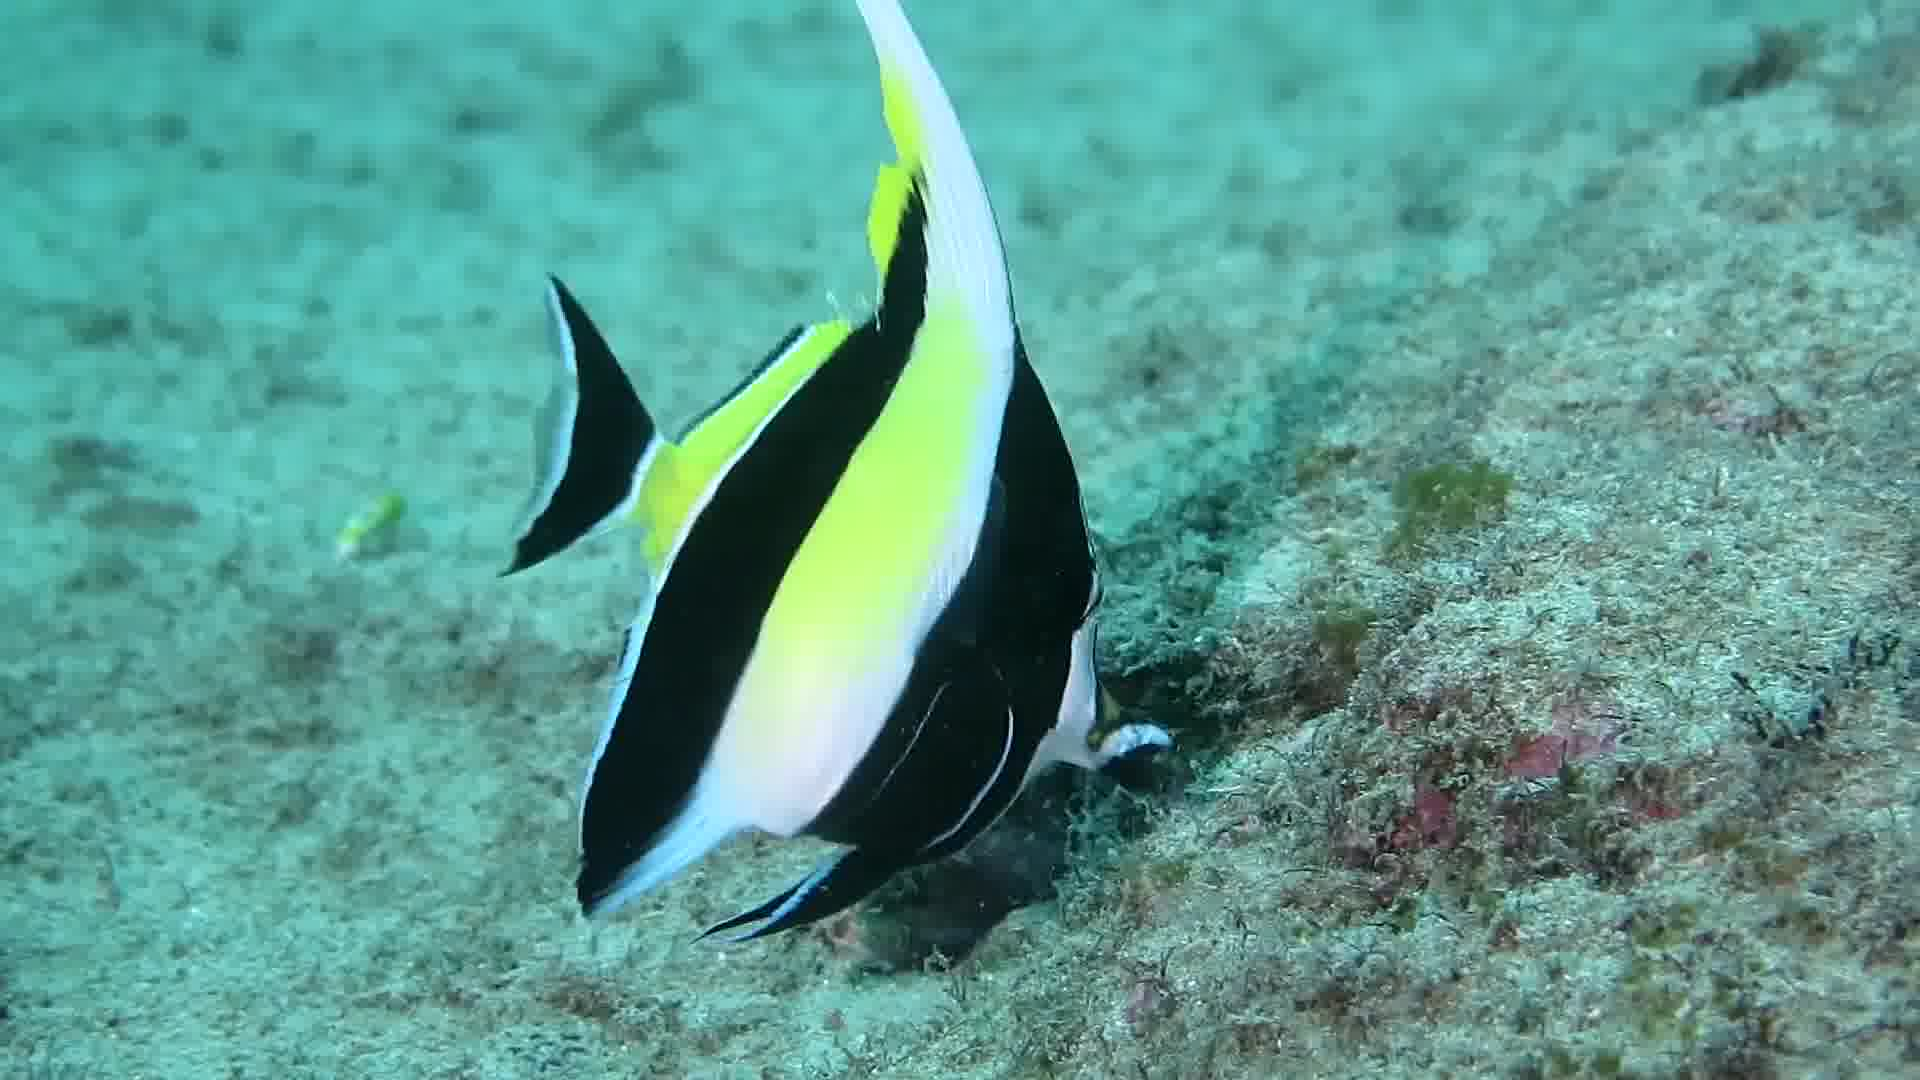Zanclus cornutus: (505, 186, 1197, 948)
